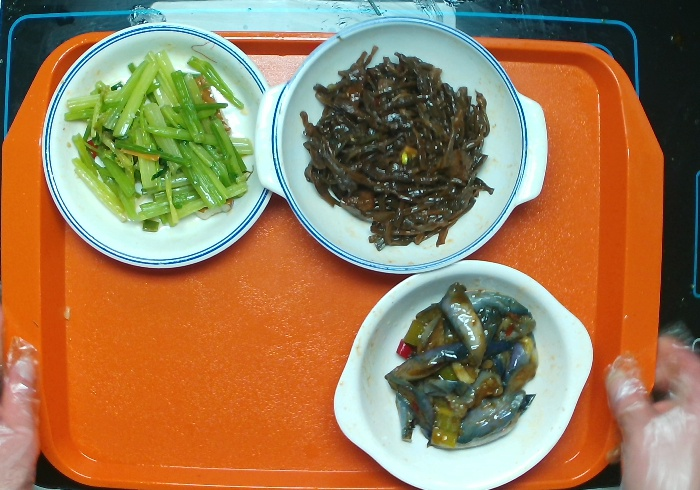HZYJPL-Dai_Er_Bai_Yuan_Wan: (328, 255, 598, 490)
HZYJPL-Lan_Bian_Dai_Er_Wan: (250, 14, 552, 278)
HZYJPL-Lan_Bian_Yuan_Die: (39, 20, 282, 275)
